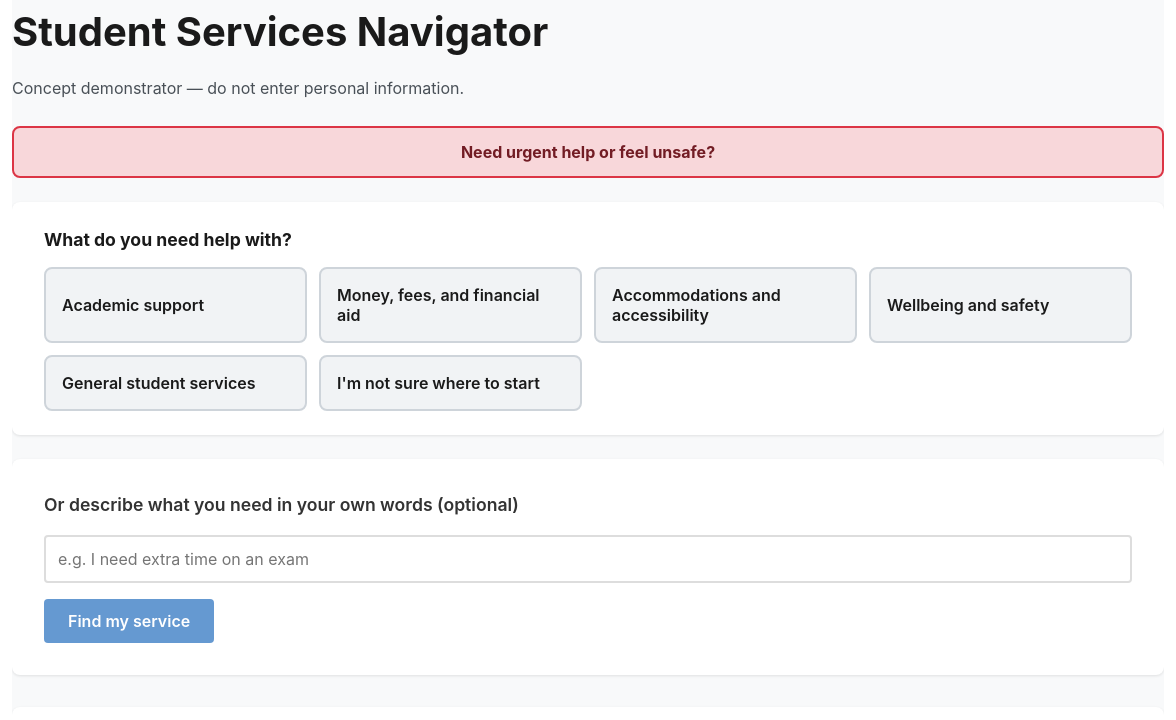
Home page — resolution-first dual-entry UX › an unsupported query is stated plainly with a General Student Services route (F-12, F-13)
Type "replacement student card" into the field labelled "Or describe what you need in your own words (optional)". click: (588, 559)
box: [44,535,1132,583]
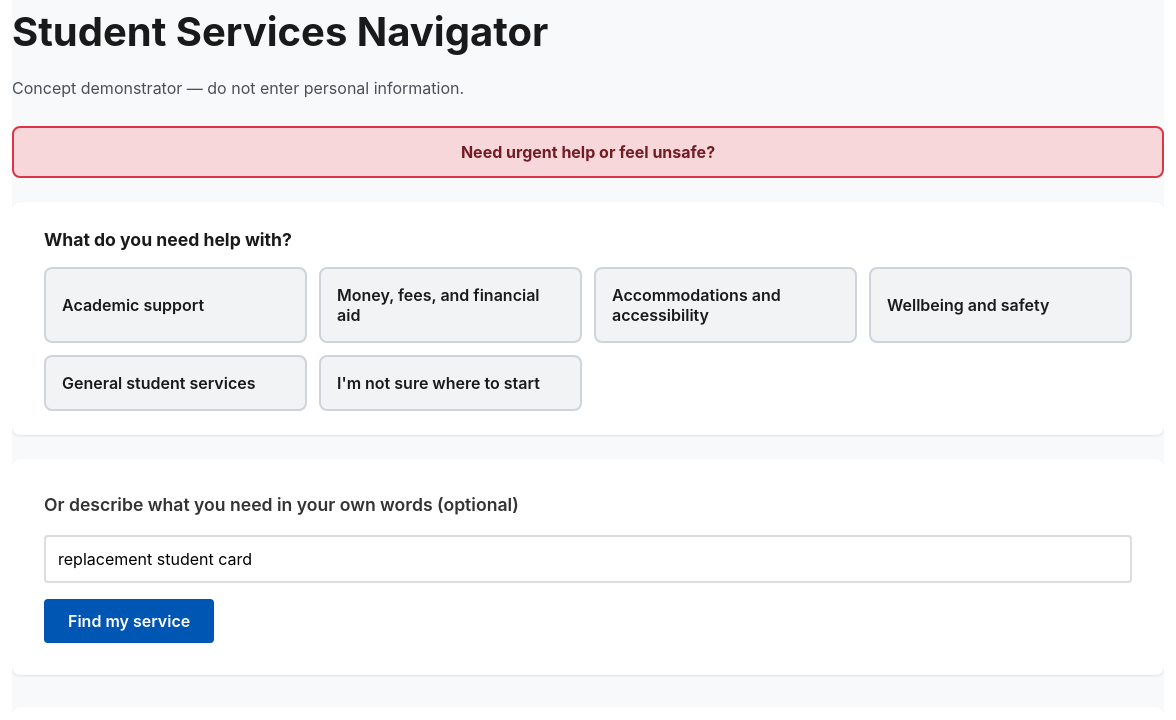
Click the button "Find my service". click: (129, 621)
box: [44,599,214,643]
(page scrolled)
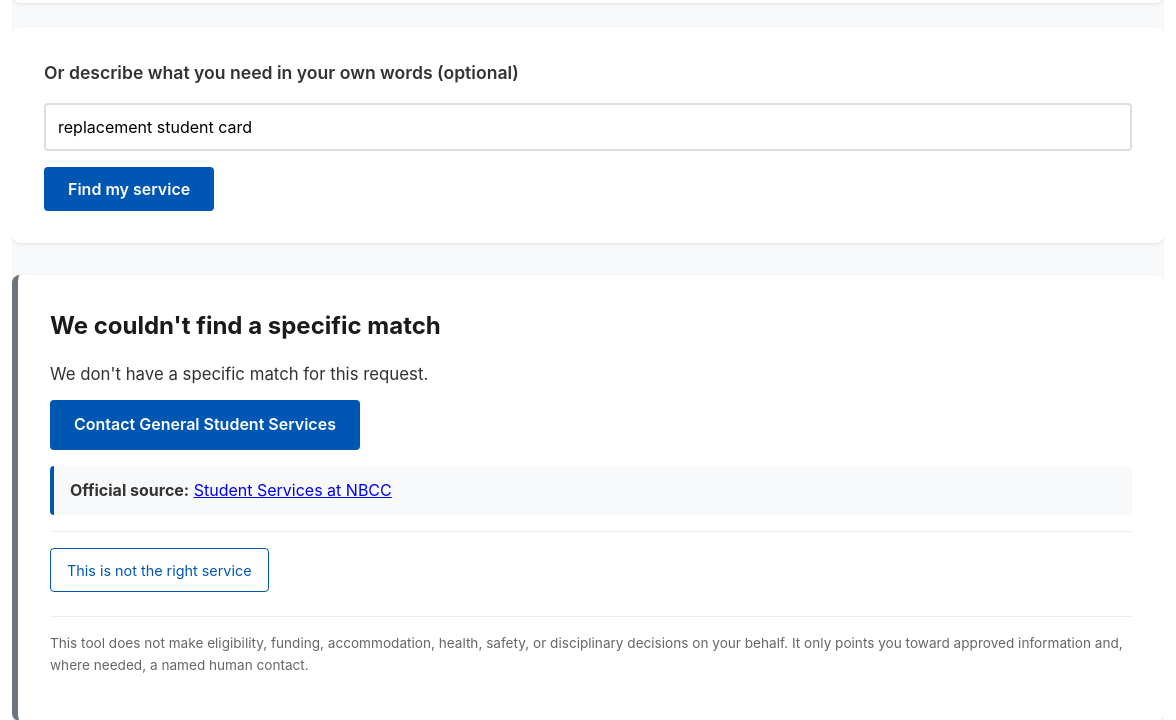
Expected: the text "We don't have a specific match for this request." is shown, [50,364,428,384]
Expected: the link "Contact General Student Services" is shown, [50,400,360,450]
